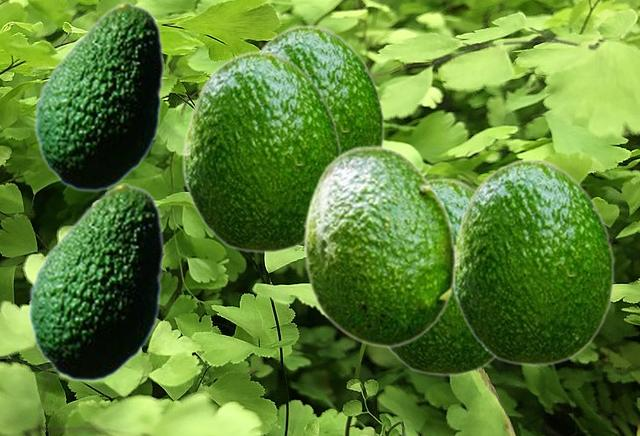avocado: (453, 158, 614, 365), (182, 50, 341, 252), (302, 145, 456, 347), (28, 183, 163, 381), (34, 2, 163, 191), (385, 177, 496, 375), (257, 24, 384, 150)
